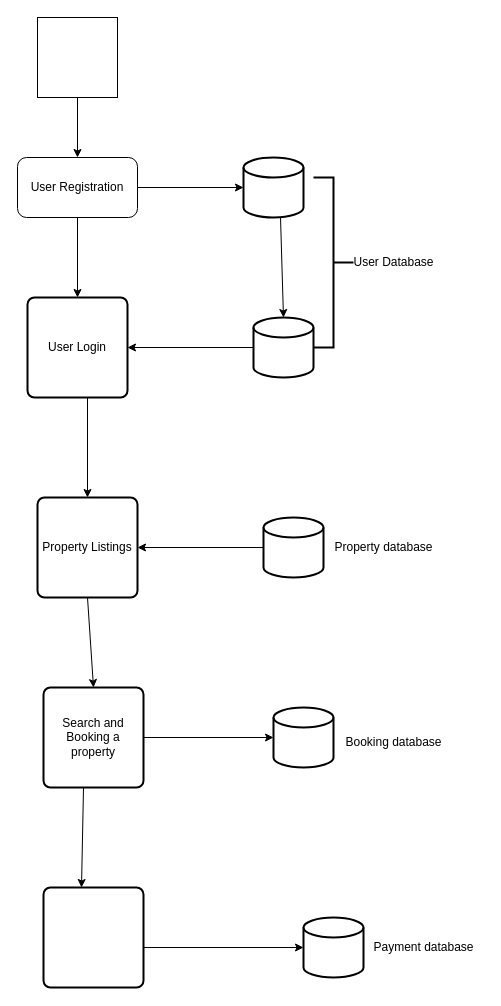
Image size: 501x1006. Some labels were removed from this diagram. Here are the shapes that lost their labels. From the top down, the box of each, then its label:
(36, 16, 118, 98): User
(42, 886, 144, 988): Payment
